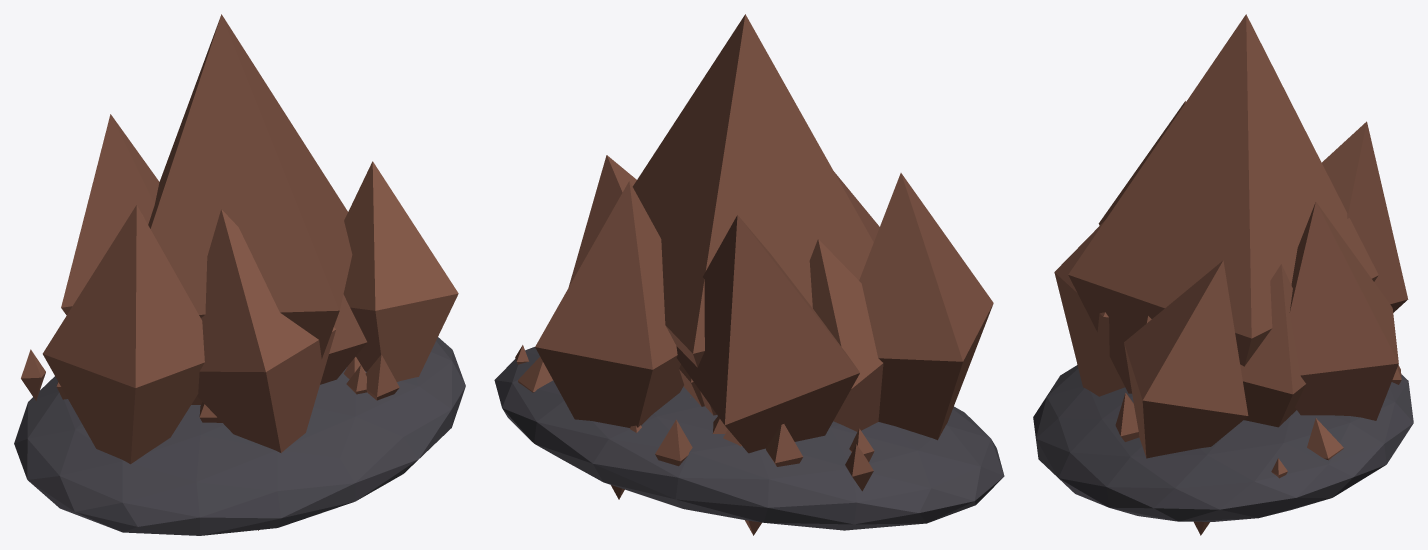
Rendered from cassiterite.glb.
3 renders of one model, left to right at view 1: azimuth 30°, elevation 25°; view 2: azimuth 150°, elevation 25°; view 3: azimuth 270°, elevation 25°, orthographic. The views are drawn at different scales.
Parts seen in each view (by area): view 1: Cassiterite; view 2: Cassiterite; view 3: Cassiterite.
Boxes of the visible parts, left/top/right/bottom form: Cassiterite: left=14, top=14, right=465, bottom=535; Cassiterite: left=494, top=14, right=1004, bottom=535; Cassiterite: left=1033, top=14, right=1413, bottom=535.
Size of the model in its own units: 3.96 by 4.52 by 3.03.
